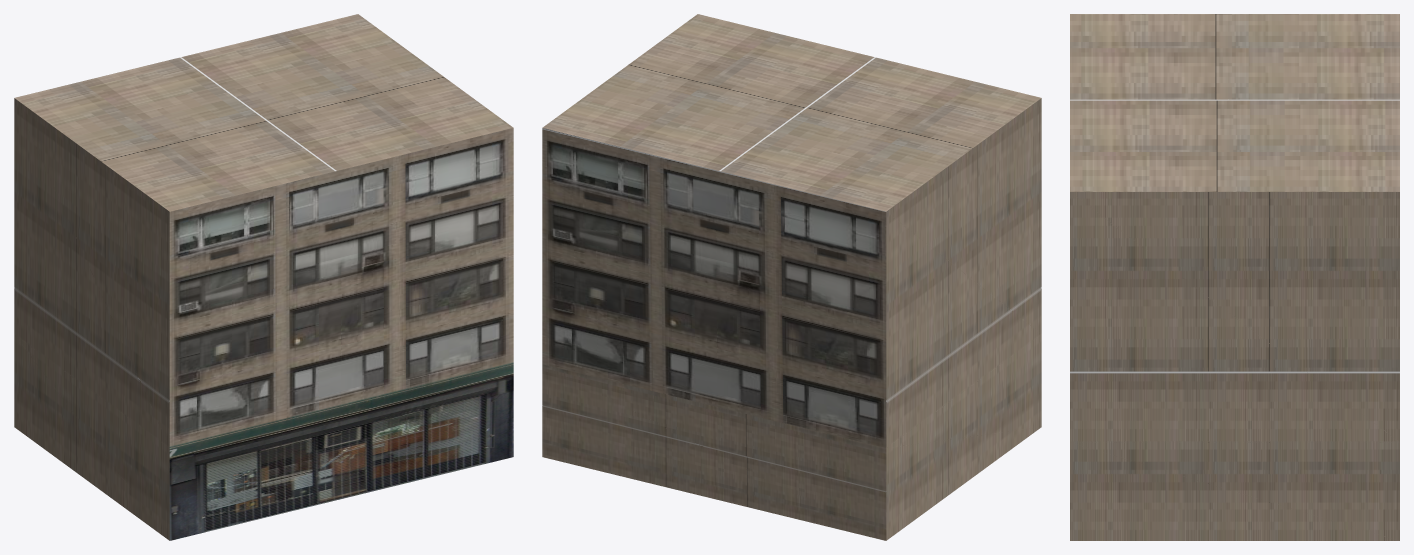
File: edificio2.fbx
The picture shows the model from 3 angles, left to right: view 1: azimuth 30°, elevation 25°; view 2: azimuth 150°, elevation 25°; view 3: azimuth 270°, elevation 25°; orthographic projection. The views are drawn at different scales.
Parts seen in each view (by area): view 1: Cube; view 2: Cube; view 3: Cube.
Boxes of the visible parts, <box> form: Cube: <box>14,14,513,540</box>; Cube: <box>542,14,1041,540</box>; Cube: <box>1070,14,1399,540</box>.
Size of the model in its own units: 2815 by 2575 by 2205.
